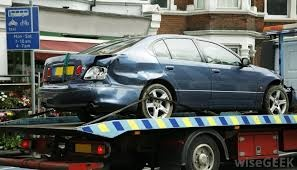Broken-glass: (80, 64, 109, 82)
Dent: (87, 55, 154, 108)
